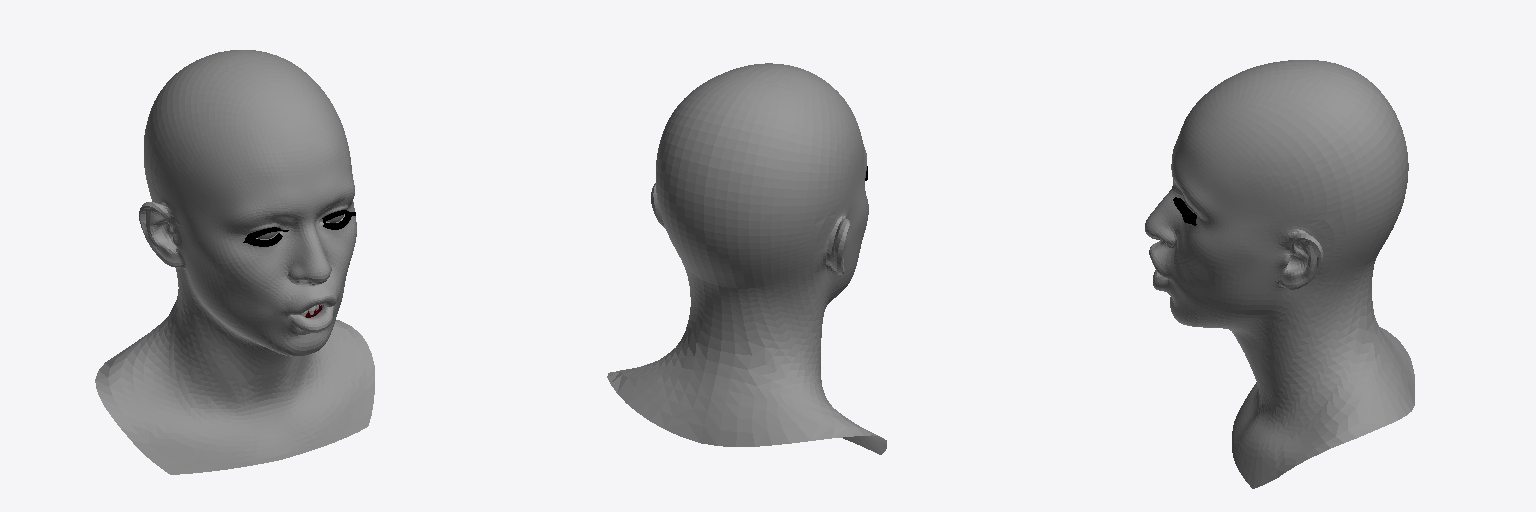
Rendered from mouthFunnel.obj.
3 renders of one model, left to right at view 1: azimuth 30°, elevation 25°; view 2: azimuth 150°, elevation 25°; view 3: azimuth 270°, elevation 25°, orthographic.
Size of the model in its own units: 24.83 by 33.81 by 22.2.